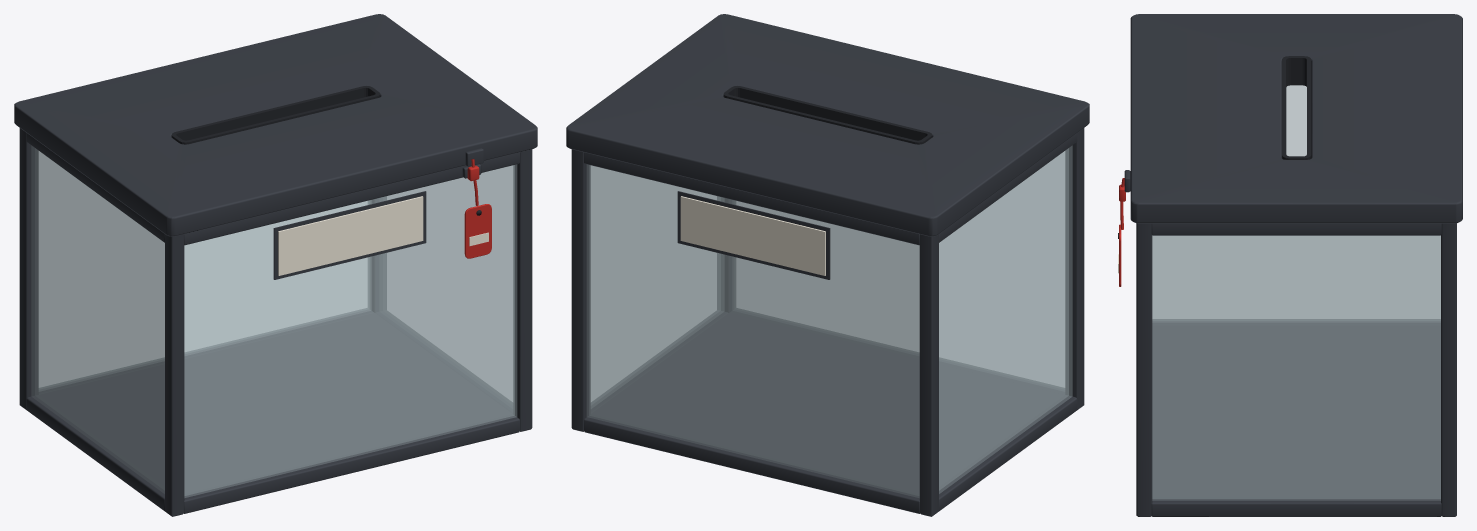
Rendered from RmBallotBox.fbx.
3 views of the same model, side by side, from view 1: azimuth 30°, elevation 25°; view 2: azimuth 150°, elevation 25°; view 3: azimuth 270°, elevation 25° (orthographic). The views are drawn at different scales.
Visible parts, largest first — view 1: RmBallotBoxBody; view 2: RmBallotBoxBody; view 3: RmBallotBoxBody.
Part boxes in pixels (left/top/right/bottom): RmBallotBoxBody: left=14, top=14, right=537, bottom=516; RmBallotBoxBody: left=566, top=14, right=1089, bottom=516; RmBallotBoxBody: left=1118, top=14, right=1462, bottom=516.
Bounding box in the file's own units: 0.308 × 0.2408 × 0.2365.
